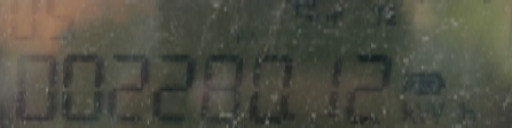0: (7, 35, 57, 126), (57, 44, 109, 128), (248, 42, 297, 128)
1: (327, 40, 343, 126)
2: (146, 39, 198, 128), (344, 49, 396, 128), (107, 30, 146, 128)
8: (196, 42, 242, 128)
d: (287, 109, 304, 122)
